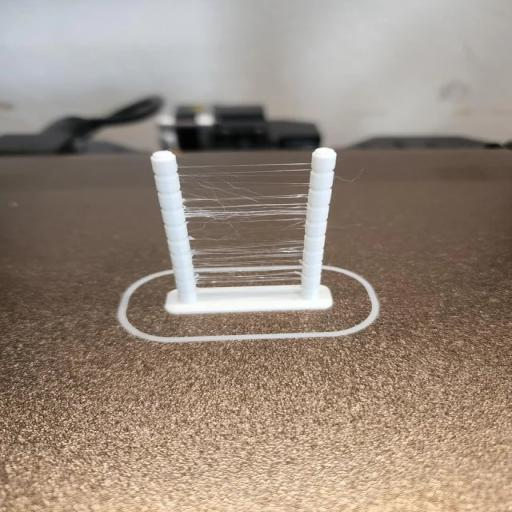stringing: (181, 152, 310, 290)
